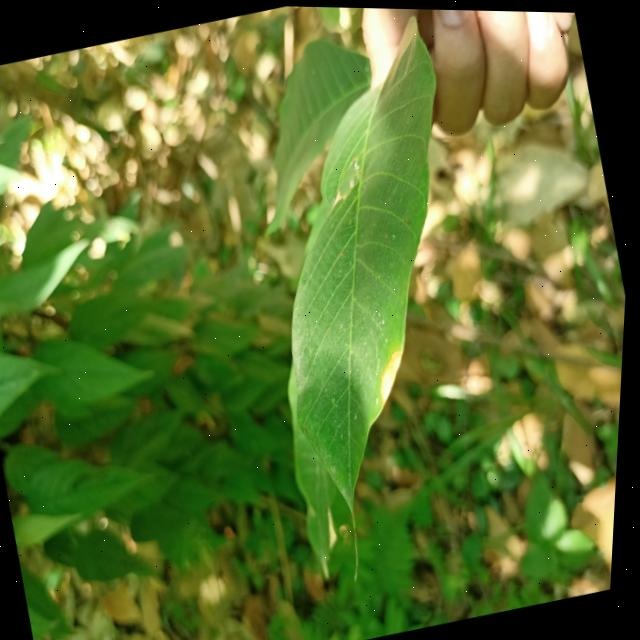Leaf-Blight: (373, 347, 414, 404)
